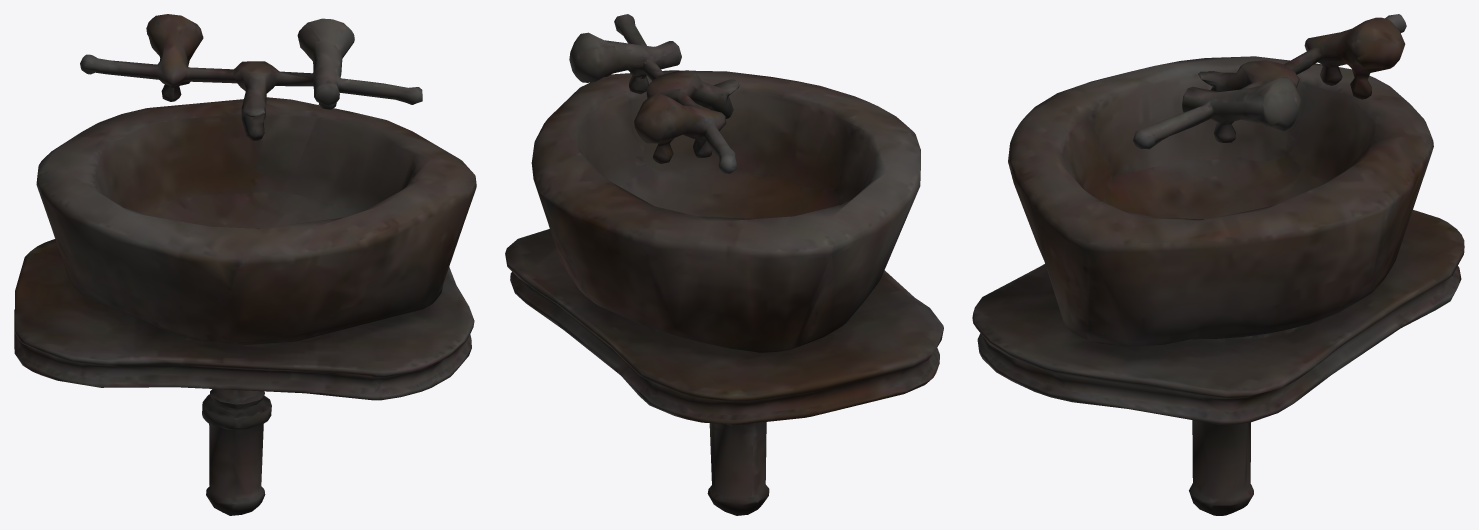
Rendered from sturdy-iron-washbasin-v001.glb.
3 renders of one model, left to right at view 1: azimuth 30°, elevation 25°; view 2: azimuth 150°, elevation 25°; view 3: azimuth 270°, elevation 25°, orthographic. The views are drawn at different scales.
Parts seen in each view (by area): view 1: sturdy-iron-washbasin; view 2: sturdy-iron-washbasin; view 3: sturdy-iron-washbasin.
Part boxes in pixels (<box>): sturdy-iron-washbasin: <box>14,14,476,515</box>; sturdy-iron-washbasin: <box>505,14,943,515</box>; sturdy-iron-washbasin: <box>972,14,1464,515</box>.
Size of the model in its own units: 0.8383 by 0.8755 by 0.7859.
1 material, 1 textured.
